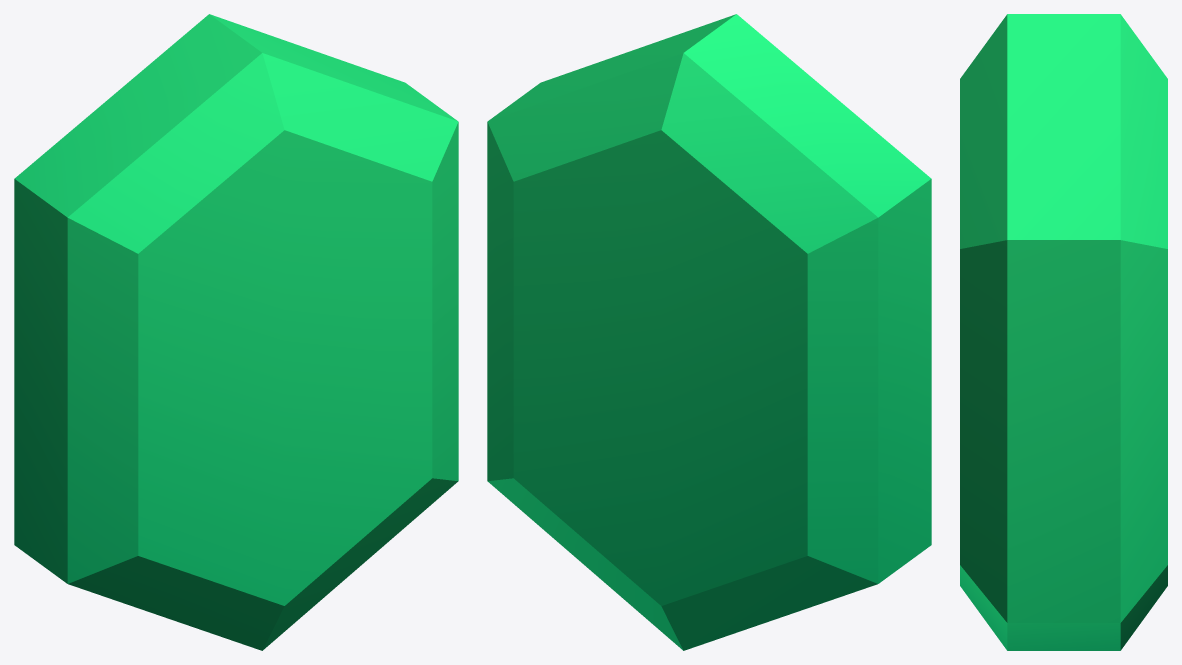
Rendered from Gem_6.fbx.
3 renders of one model, left to right at view 1: azimuth 30°, elevation 25°; view 2: azimuth 150°, elevation 25°; view 3: azimuth 270°, elevation 25°, orthographic. The views are drawn at different scales.
Parts seen in each view (by area): view 1: Gem_6; view 2: Gem_6; view 3: Gem_6.
Boxes of the visible parts, <box> form: Gem_6: <box>14,14,458,650</box>; Gem_6: <box>487,14,931,650</box>; Gem_6: <box>960,14,1167,650</box>.
Bounding box in the file's own units: 0.1485 × 0.217 × 0.0642.
